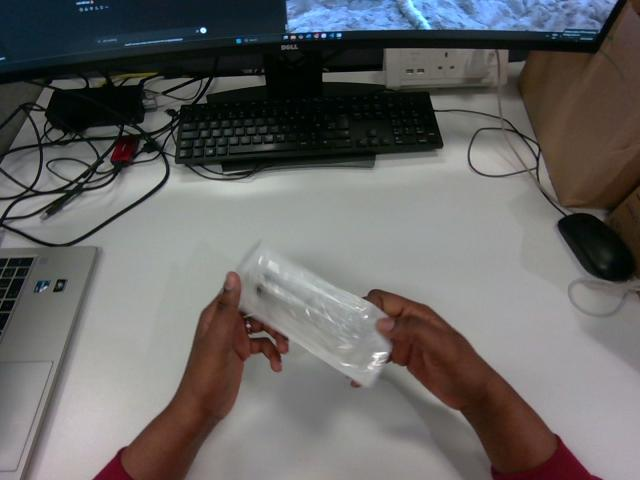syringe: (237, 244, 390, 385)
